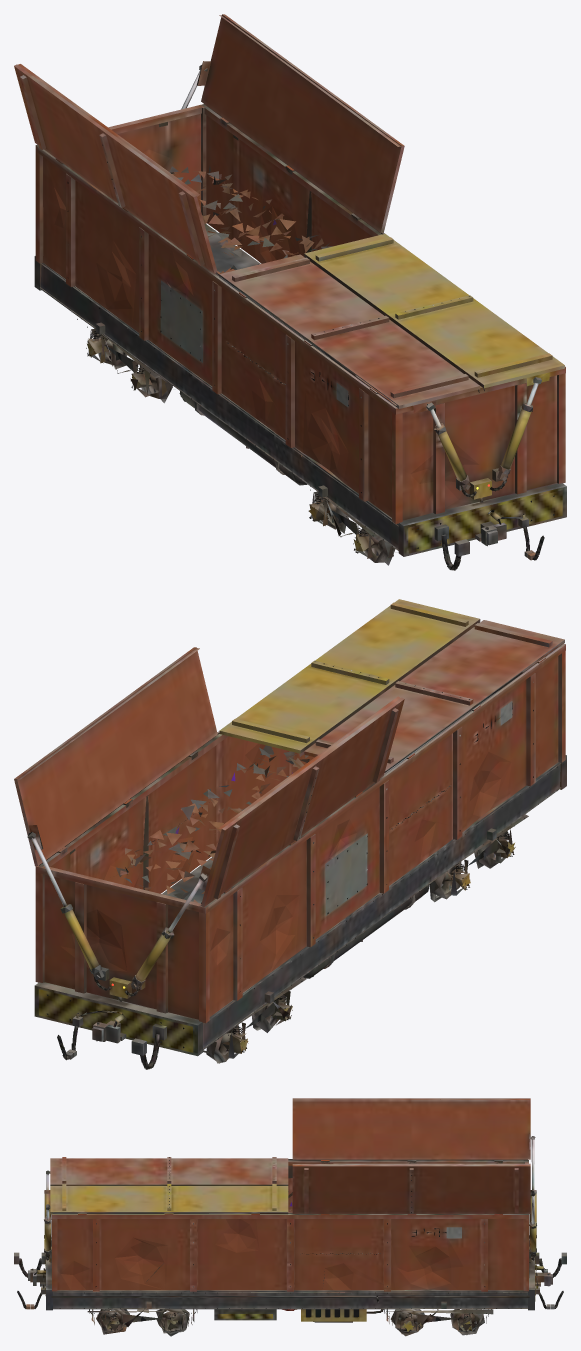
Rendered from vagao_carga.glb.
The picture shows the model from 3 angles, top to bottom: view 1: azimuth 30°, elevation 25°; view 2: azimuth 150°, elevation 25°; view 3: azimuth 270°, elevation 25°; orthographic projection. The views are drawn at different scales.
Parts seen in each view (by area): view 1: vagao_carga_corpo, vagao_carga_pilha, vagao_carga_truque0, vagao_carga_truque1; view 2: vagao_carga_corpo, vagao_carga_pilha, vagao_carga_truque0, vagao_carga_truque1; view 3: vagao_carga_corpo, vagao_carga_truque1, vagao_carga_truque0.
Part boxes in pixels (box(x1,y1,x2,y2)): vagao_carga_corpo: box(14, 14, 566, 570); vagao_carga_pilha: box(169, 165, 332, 274); vagao_carga_truque0: box(299, 481, 395, 565); vagao_carga_truque1: box(77, 319, 172, 403); vagao_carga_corpo: box(14, 599, 566, 1069); vagao_carga_pilha: box(116, 745, 309, 903); vagao_carga_truque0: box(429, 814, 528, 902); vagao_carga_truque1: box(203, 977, 306, 1063); vagao_carga_corpo: box(14, 1098, 566, 1322); vagao_carga_truque1: box(383, 1309, 493, 1336); vagao_carga_truque0: box(87, 1309, 197, 1336).
Size of the model in its own units: 0.9575 by 1.19 by 3.19.
Materials: 3 (1 with a texture image).
